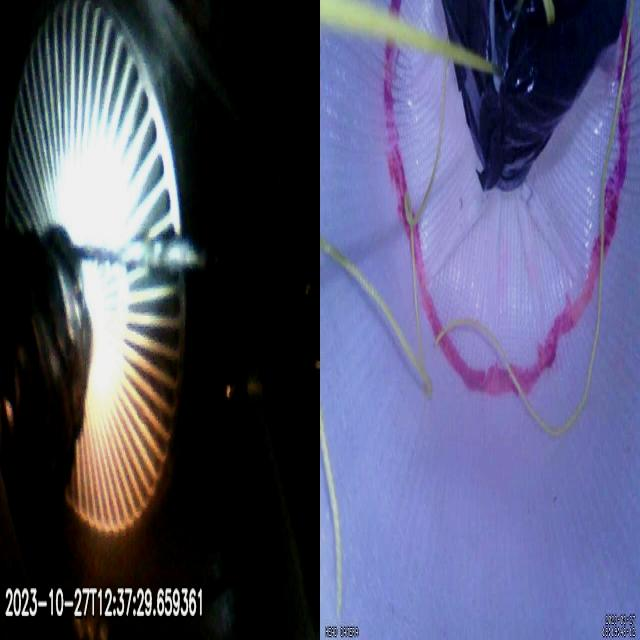red-circle: (382, 0, 632, 396)
